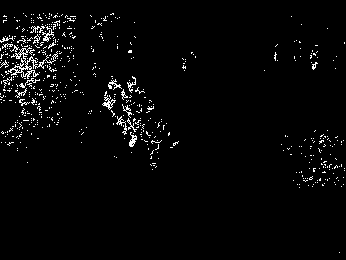person: (136, 97, 176, 171), (103, 74, 125, 135), (124, 73, 142, 137)
